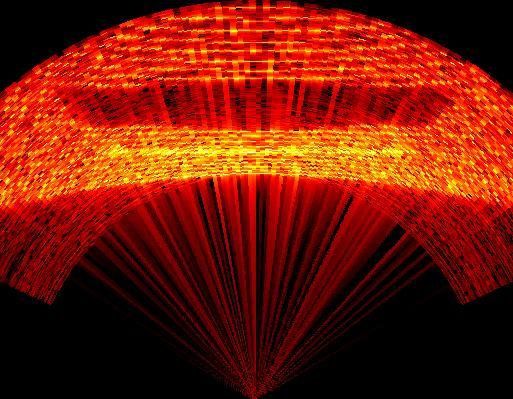pipe: (55, 84, 460, 129)
